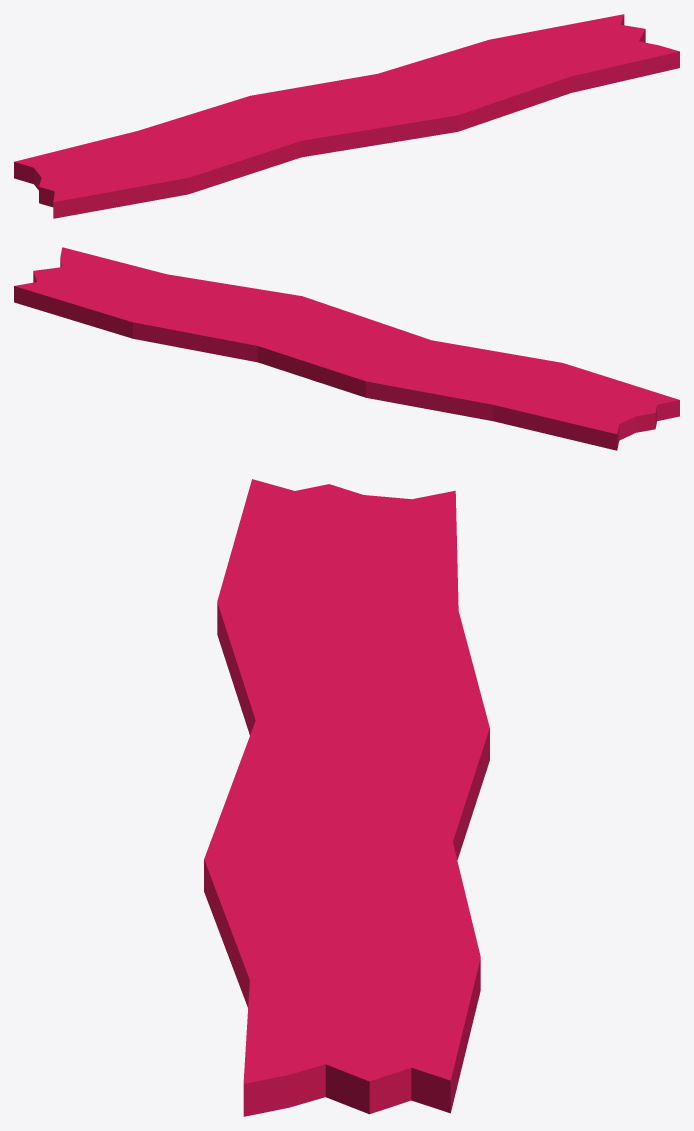
The model's file is TabuaPassagem.fbx.
3 renders of one model, top to bottom at view 1: azimuth 30°, elevation 25°; view 2: azimuth 150°, elevation 25°; view 3: azimuth 270°, elevation 25°, orthographic. The views are drawn at different scales.
Parts seen in each view (by area): view 1: Plane; view 2: Plane; view 3: Plane.
Boxes of the visible parts, x1,y1,x2,y2 form: Plane: (14, 14, 679, 218); Plane: (14, 247, 679, 450); Plane: (204, 479, 489, 1116).
Bounding box in the file's own units: 2623 × 66.47 × 523.
